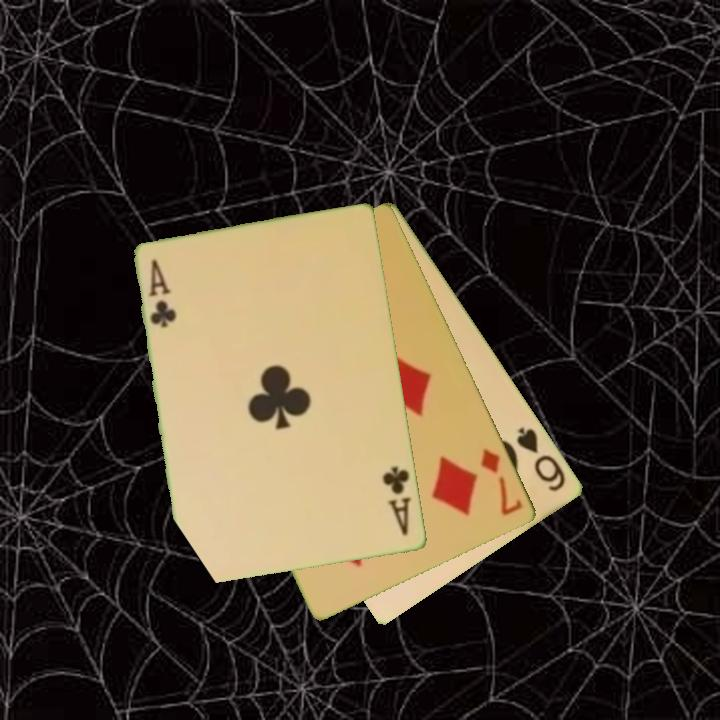6s: (513, 424, 569, 495)
7d: (477, 444, 526, 519)
Ac: (379, 463, 415, 539), (145, 256, 180, 331)
